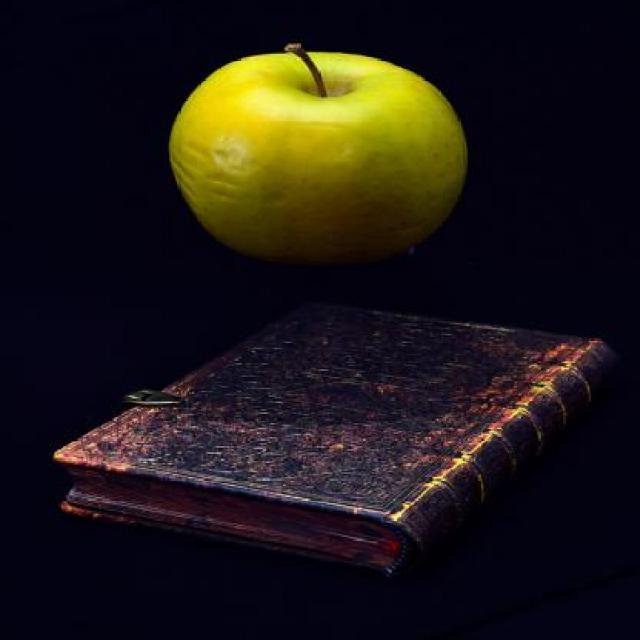Apple pie: (164, 34, 472, 272)
